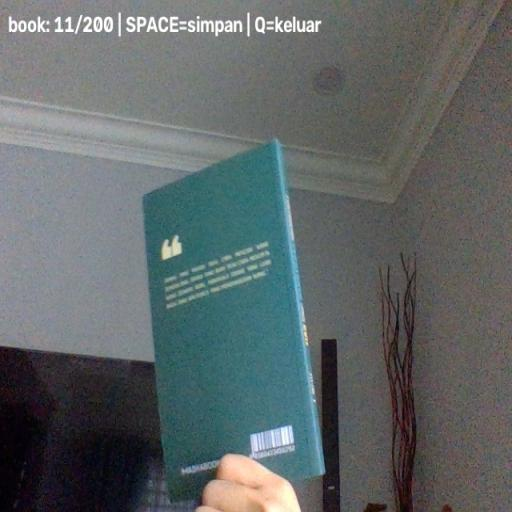Book: (142, 138, 326, 504)
